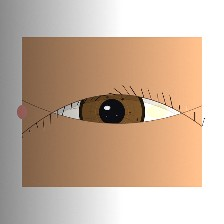pinguecula_lesion: (136, 95, 178, 128)
